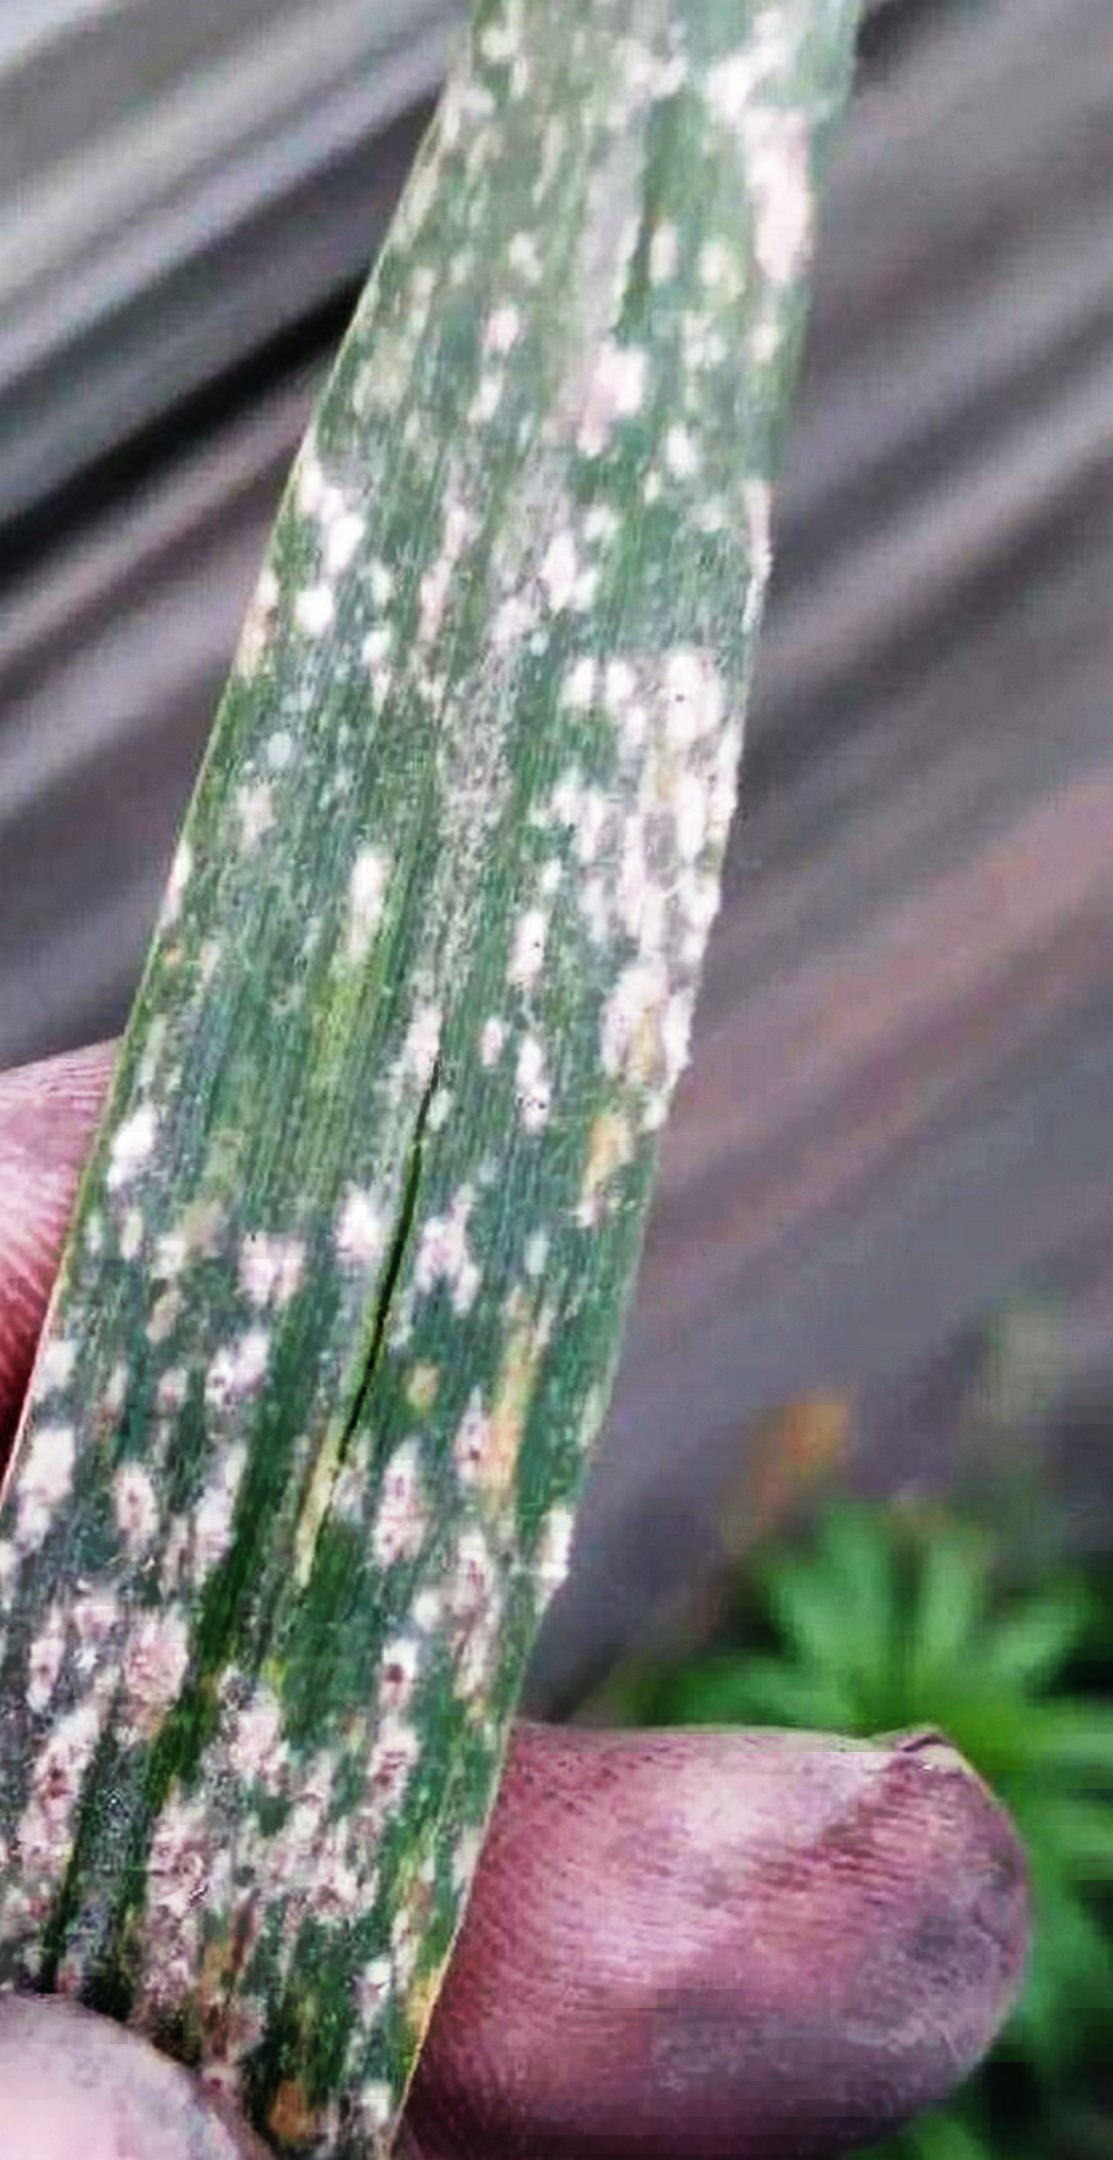Powdery Mildew: (26, 170, 877, 1903)
